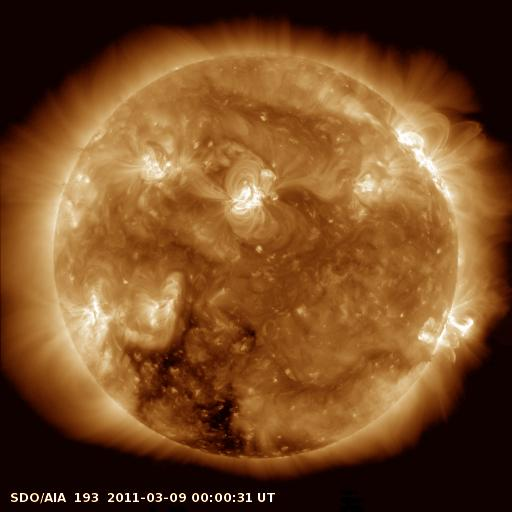coronal_hole: (132, 313, 255, 457)
